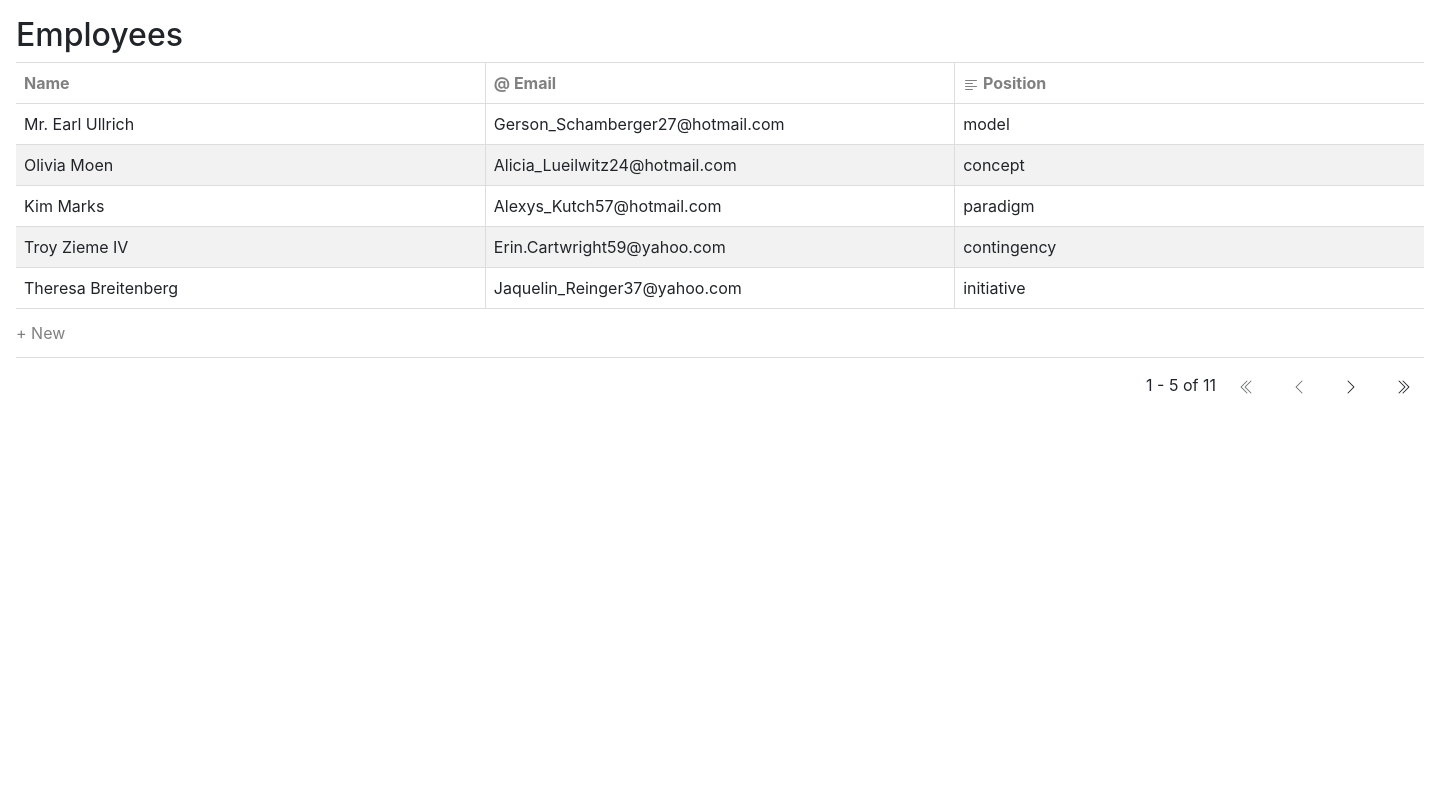
Test: Integration test Table › When click New button
Expected: the text "Mr. Earl Ullrich" is shown, [16, 104, 485, 145]
Click the text "+ New" at {"x": 720, "y": 334}, box [16, 309, 1424, 358]
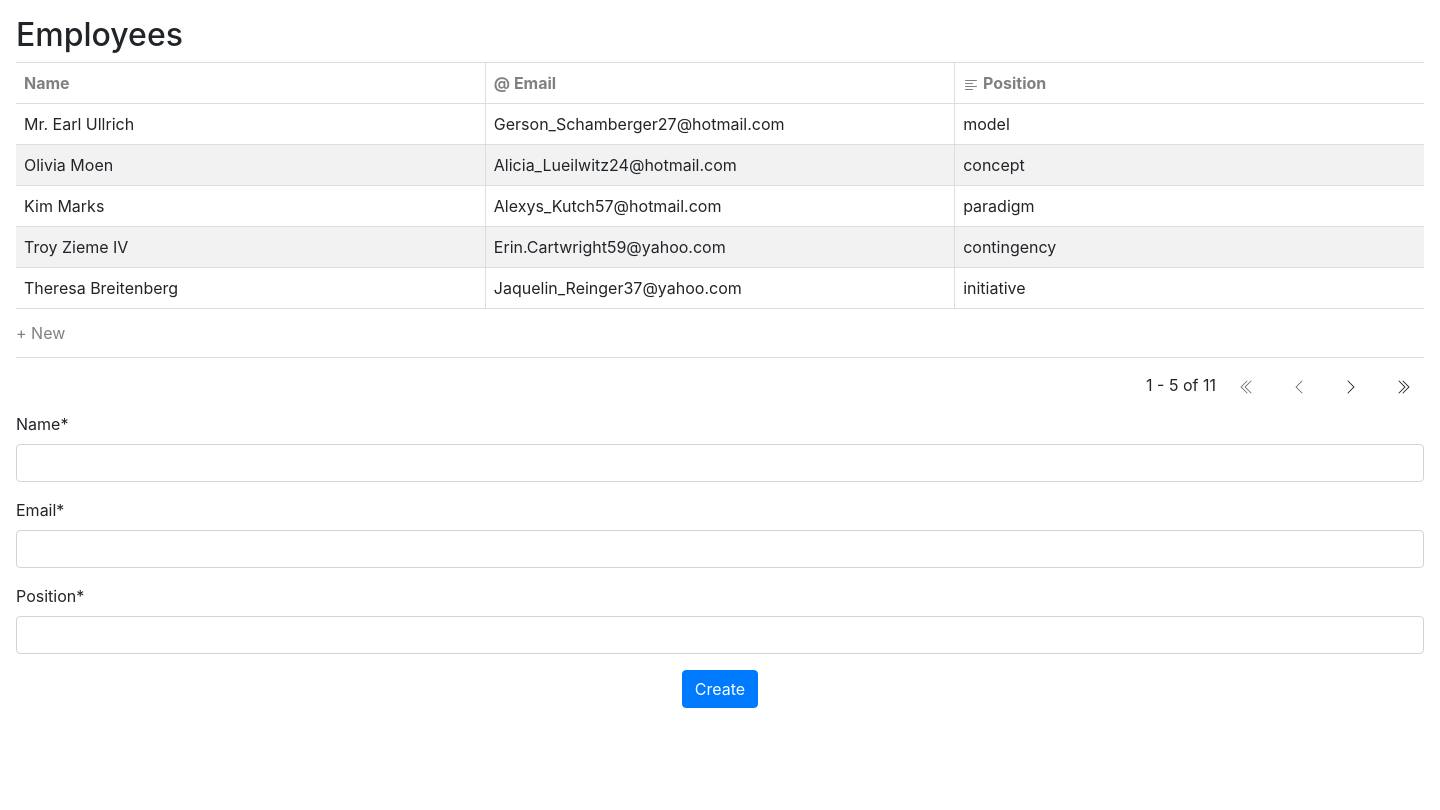
Now the field with id "name" is shown, box [16, 444, 1424, 482]
Now the field with id "email" is shown, box [16, 530, 1424, 568]
Now the field labelled "Position*" is shown, box [16, 616, 1424, 654]
